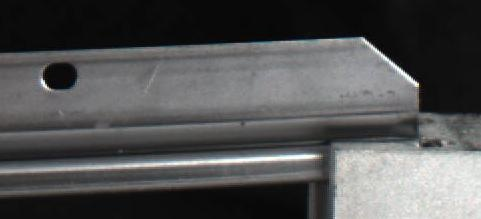cut: (283, 35, 426, 182)
holes: (40, 60, 79, 93)
